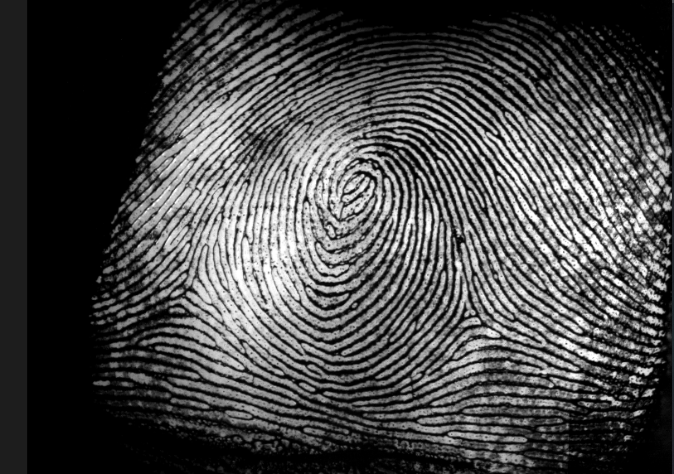deltas: (155, 261, 217, 321), (444, 281, 503, 343)
nucleo: (330, 156, 379, 209)
